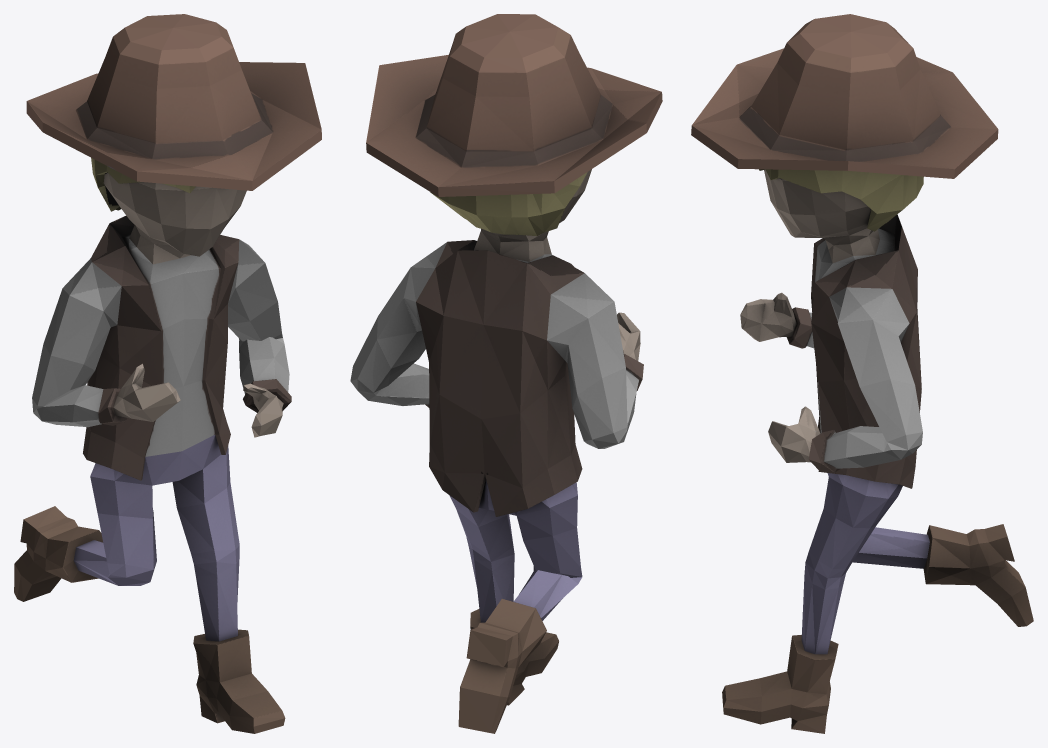
File: char_4.obj
3 views of the same model, side by side, from view 1: azimuth 30°, elevation 25°; view 2: azimuth 150°, elevation 25°; view 3: azimuth 270°, elevation 25° (orthographic).
Visible parts, largest first — view 1: Cube; view 2: Cube; view 3: Cube.
Part boxes in pixels (<box>): Cube: <box>14,14,321,733</box>; Cube: <box>350,14,662,733</box>; Cube: <box>691,14,1033,733</box>.
Bounding box in the file's own units: 3.49 × 8.61 × 3.94.
1 material, 1 textured.
